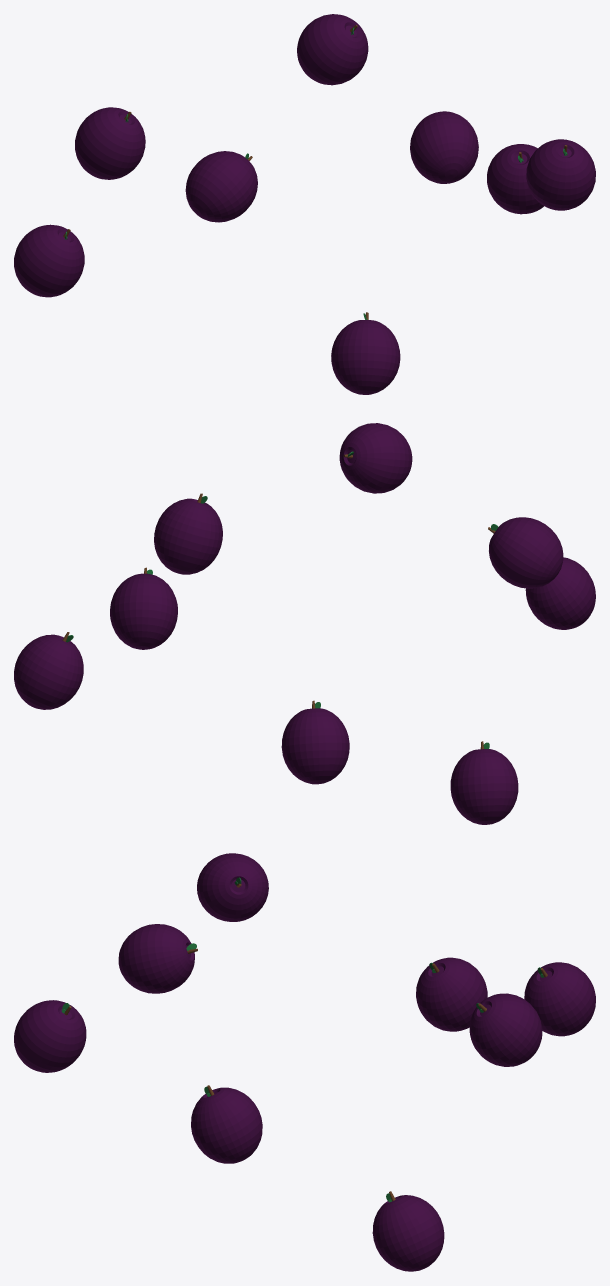
The model's file is krzew_jagody.fbx.
3 views of the same model, one above another, from view 1: azimuth 30°, elevation 25°; view 2: azimuth 150°, elevation 25°; view 3: azimuth 270°, elevation 25° (orthographic). The views are drawn at different scales.
Visible parts, largest first — view 1: Sphere.122, Sphere.121, Sphere.119, Sphere.120, Sphere.124, Sphere.123, Sphere.125, Sphere.126; view 2: Sphere.121, Sphere.125, Sphere.126, Sphere.119, Sphere.120, Sphere.124, Sphere.123, Sphere.122; view 3: Sphere.126, Sphere.125, Sphere.123, Sphere.124, Sphere.122, Sphere.119, Sphere.120, Sphere.121.
Part boxes in pixels (x1,y1,x2,y2): Sphere.122: (331,312,400,394); Sphere.121: (185,151,257,222); Sphere.119: (75,107,145,179); Sphere.120: (14,224,84,297); Sphere.124: (297,14,368,85); Sphere.123: (410,111,478,183); Sphere.125: (526,139,595,210); Sphere.126: (487,144,543,214); Sphere.121: (488,517,563,588); Sphere.125: (154,493,222,574); Sphere.126: (14,632,83,709); Sphere.119: (281,700,349,784); Sphere.120: (450,741,518,824); Sphere.124: (110,567,177,649); Sphere.123: (339,423,412,493); Sphere.122: (525,557,595,629); Sphere.126: (372,1191,444,1271); Sphere.125: (191,1085,262,1163); Sphere.123: (118,924,197,993); Sphere.124: (469,993,542,1066); Sphere.122: (14,1000,86,1072); Sphere.119: (524,962,595,1036); Sphere.120: (416,957,487,1031); Sphere.121: (197,853,268,921).
Size of the model in its own units: 117 by 51.27 by 112.
